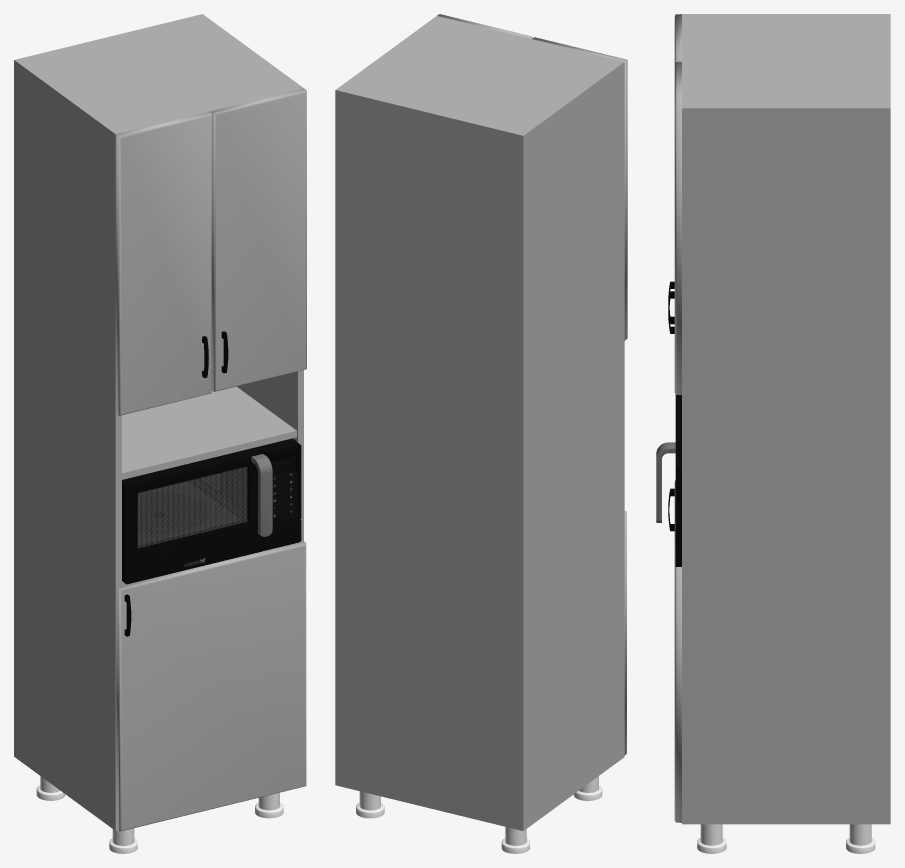
File: lami60.glb
The picture shows the model from 3 angles, left to right: view 1: azimuth 30°, elevation 25°; view 2: azimuth 150°, elevation 25°; view 3: azimuth 270°, elevation 25°; orthographic projection. The views are drawn at different scales.
Parts seen in each view (by area): view 1: Box478, باب, باب002, باب003, Box479, Obj3d66-517063-2-681, Obj3d66-517063-1-843, Obj3d66-517063-10-7, Obj3d66-517063-3-471, Obj3d66-517063-5-233, Obj3d66-517063-4-9, Obj3d66-517063-7-400 (+2 smaller); view 2: Box478, باب002, باب, Cylinder007, Cylinder008; view 3: Box478, باب003, باب, Obj3d66-517063-10-7, Cylinder008, Cylinder006, Obj3d66-517063-4-9.
Part boxes in pixels (x1=…): Box478: x1=14, y1=14, x2=303, y2=830; باب: x1=116, y1=541, x2=306, y2=831; باب002: x1=115, y1=111, x2=211, y2=415; باب003: x1=211, y1=88, x2=306, y2=391; Box479: x1=122, y1=386, x2=296, y2=479; Obj3d66-517063-2-681: x1=137, y1=466, x2=248, y2=549; Obj3d66-517063-1-843: x1=138, y1=467, x2=247, y2=547; Obj3d66-517063-10-7: x1=122, y1=438, x2=301, y2=584; Obj3d66-517063-3-471: x1=122, y1=450, x2=263, y2=561; Obj3d66-517063-5-233: x1=138, y1=468, x2=243, y2=544; Obj3d66-517063-4-9: x1=251, y1=454, x2=272, y2=536; Obj3d66-517063-7-400: x1=153, y1=450, x2=296, y2=519; Box478: x1=335, y1=16, x2=624, y2=830; باب002: x1=532, y1=37, x2=627, y2=340; باب: x1=624, y1=511, x2=626, y2=755; Cylinder007: x1=501, y1=827, x2=529, y2=853; Cylinder008: x1=356, y1=791, x2=384, y2=818; Box478: x1=682, y1=14, x2=890, y2=824; باب003: x1=674, y1=61, x2=681, y2=394; باب: x1=674, y1=480, x2=681, y2=822; Obj3d66-517063-10-7: x1=675, y1=448, x2=681, y2=566; Cylinder008: x1=846, y1=824, x2=875, y2=853; Cylinder006: x1=697, y1=824, x2=726, y2=853; Obj3d66-517063-4-9: x1=656, y1=442, x2=675, y2=522.
Size of the model in its own units: 0.6 by 2.22 by 0.6291.
Materials: 11 (5 with a texture image).
